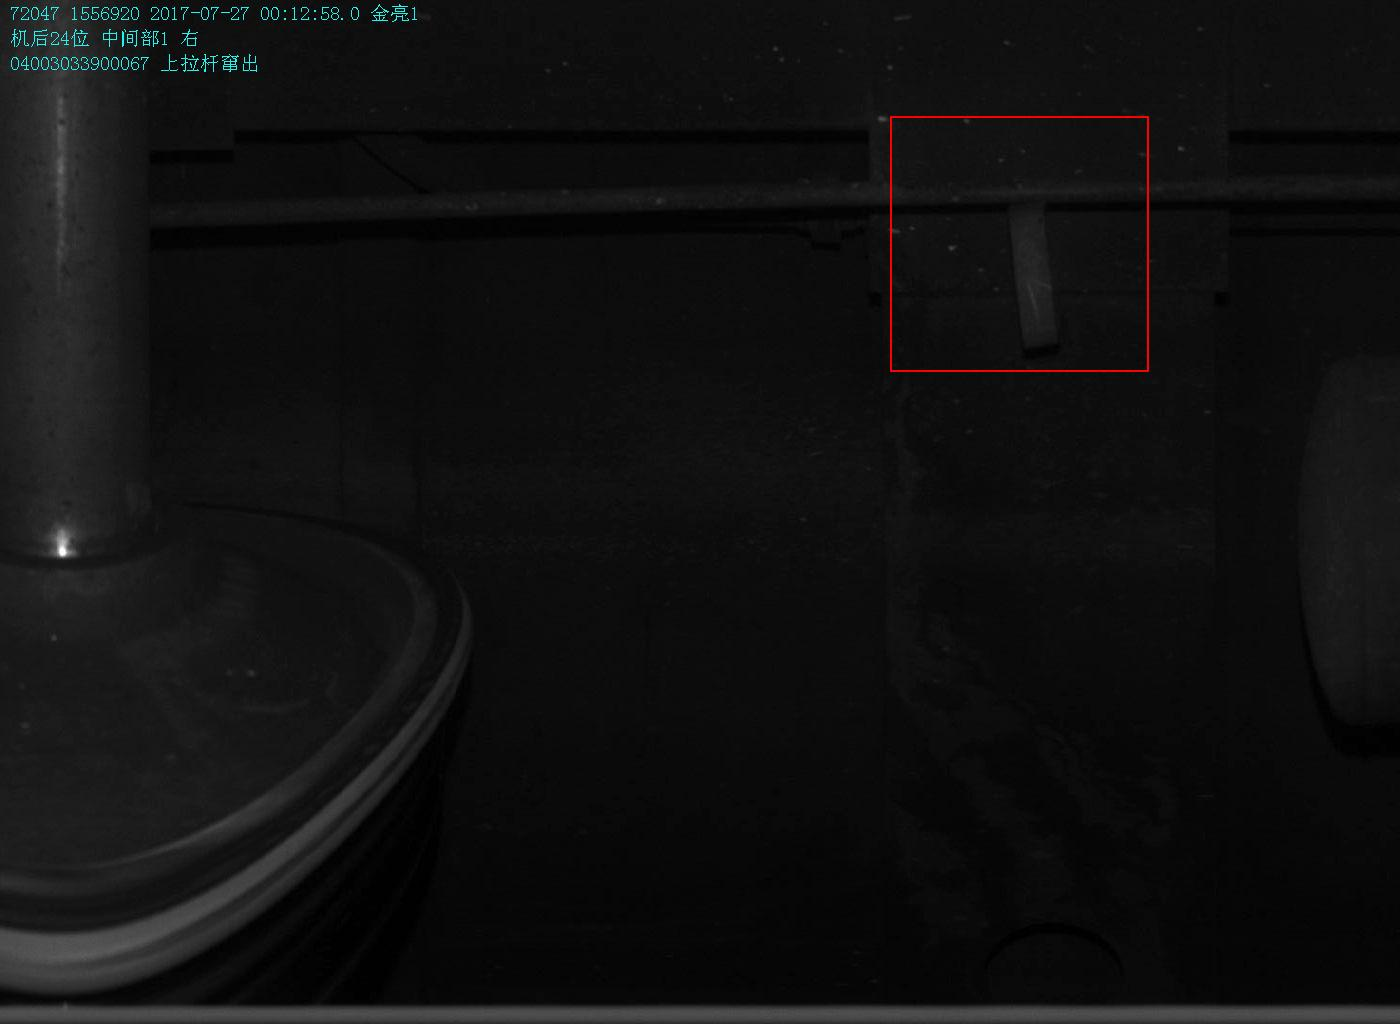Upper lever: (1009, 175, 1063, 357)
